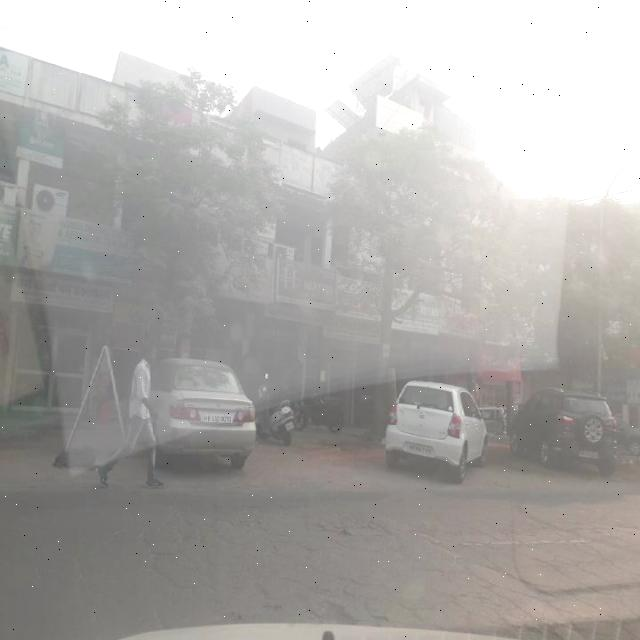D20: (131, 501, 614, 618)
